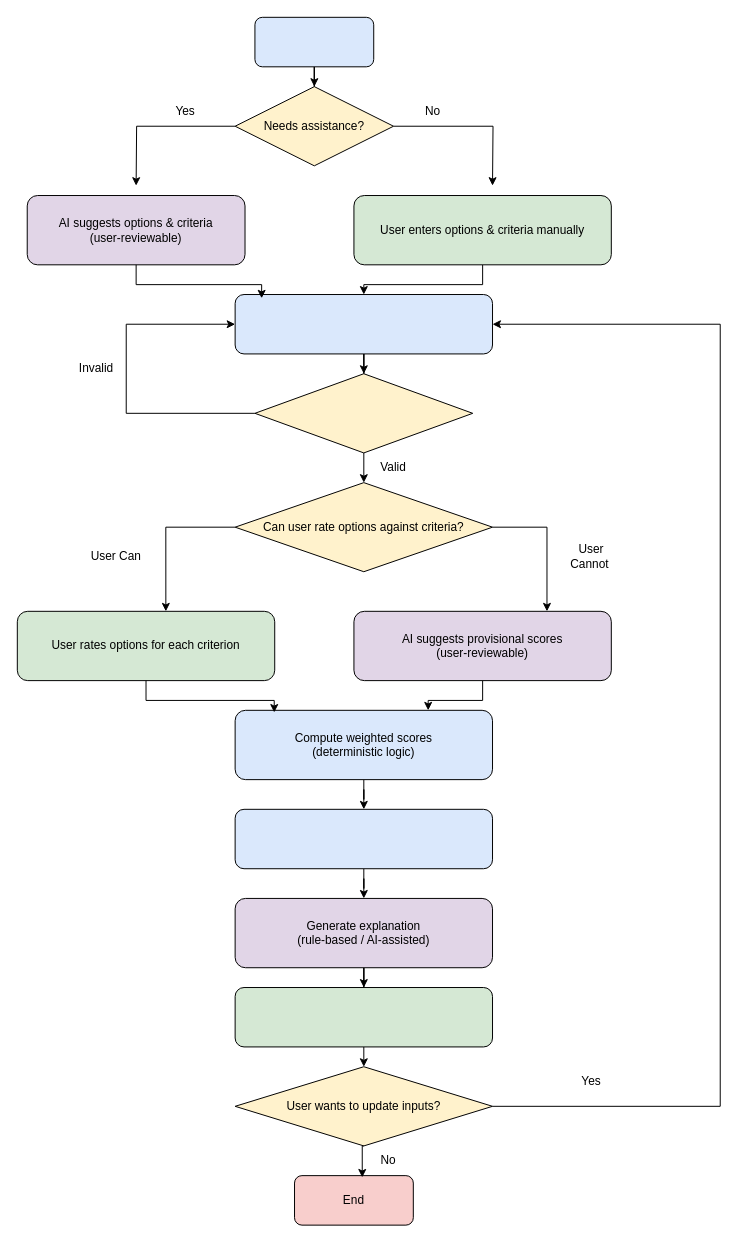
This 745x1242 diagram has some shape labels left out. The centre of each missing label's shape, as x and y in pixels:
"Are weights valid? (Sum = 1)" goes at (363,413).
"Collect weights for each criterion" goes at (363,324).
"Display ranked results to user" goes at (363,1017).
"Rank options based on total scores" goes at (363,838).
"User" goes at (314,41).
